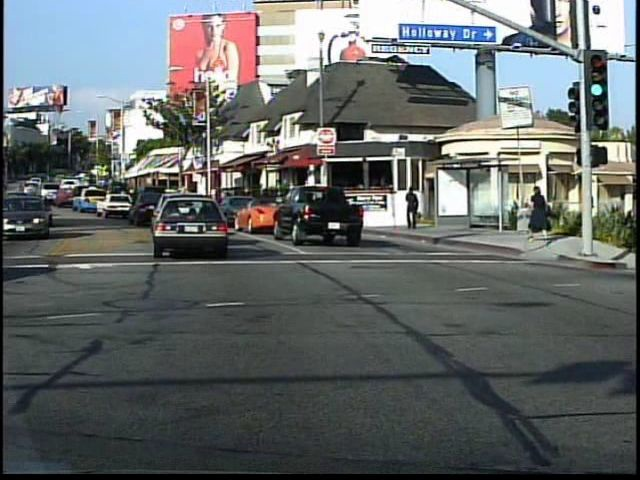person: (529, 181, 553, 246), (403, 186, 424, 235)
